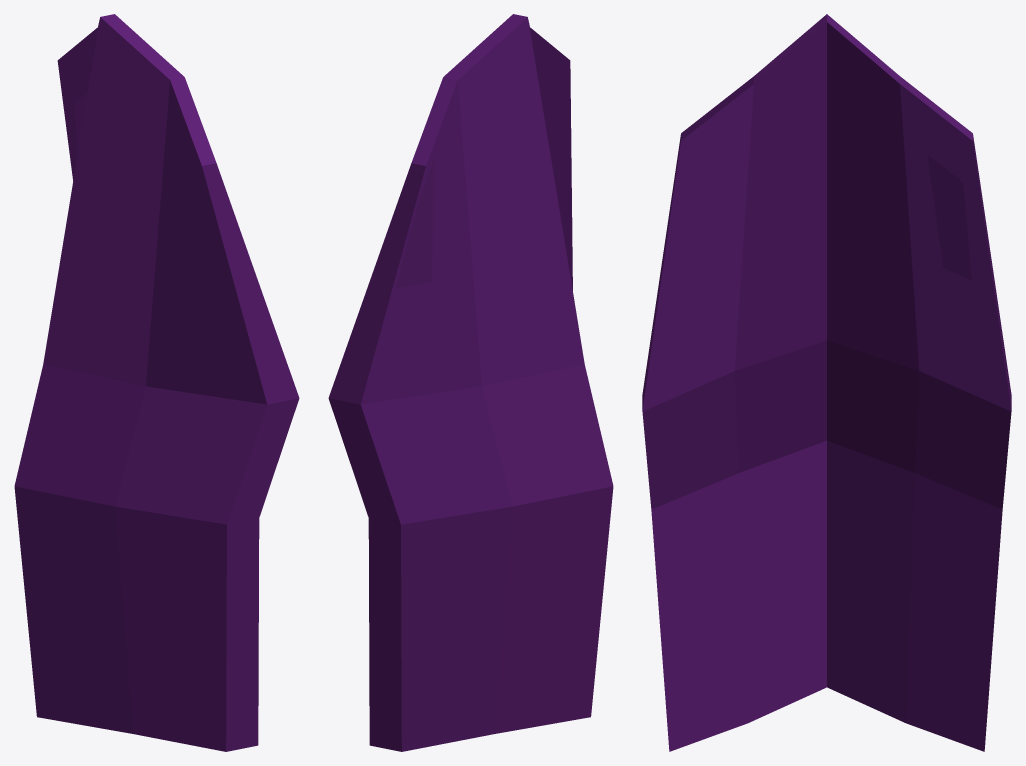
Rendered from Back_Style_Arm.fbx.
3 renders of one model, left to right at view 1: azimuth 30°, elevation 25°; view 2: azimuth 150°, elevation 25°; view 3: azimuth 270°, elevation 25°, orthographic.
Visible parts, largest first — view 1: Style Arm; view 2: Style Arm; view 3: Style Arm.
Part boxes in pixels (bbox=[...]): Style Arm: bbox=[14, 14, 299, 751]; Style Arm: bbox=[328, 14, 613, 751]; Style Arm: bbox=[642, 14, 1011, 751].
Bounding box in the file's own units: 62.65 × 214 × 102.
